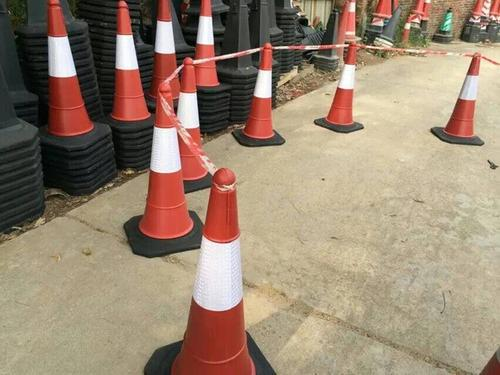cone_barrel: (170, 174, 263, 373), (130, 78, 196, 245), (40, 2, 96, 145), (105, 4, 151, 131), (435, 51, 486, 144), (236, 44, 280, 147), (316, 42, 364, 132), (170, 59, 203, 178), (146, 4, 183, 110), (190, 2, 219, 92), (345, 0, 356, 40)
